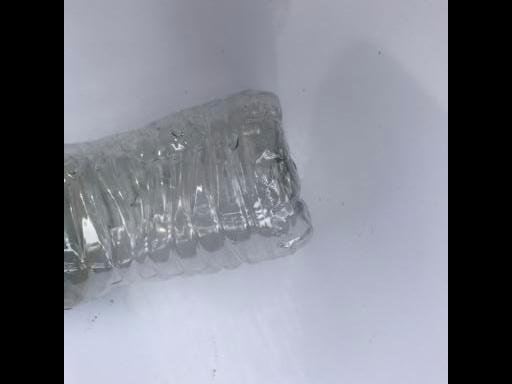PET: (65, 88, 315, 311)
plastic: (65, 88, 315, 311)
